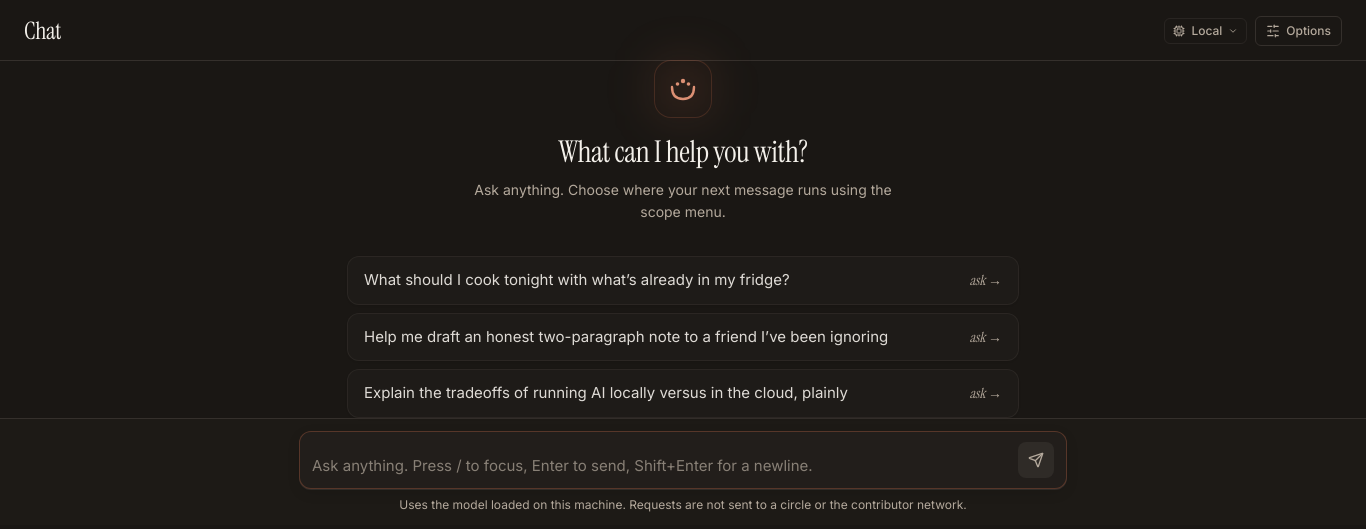
Test: signed-out local chat › clamps a restored remote scope and preserves the remembered circle without fetching it
Click the button with aria-label "Routing scope: Local only" at {"x": 1206, "y": 31}, box [1164, 18, 1247, 44]
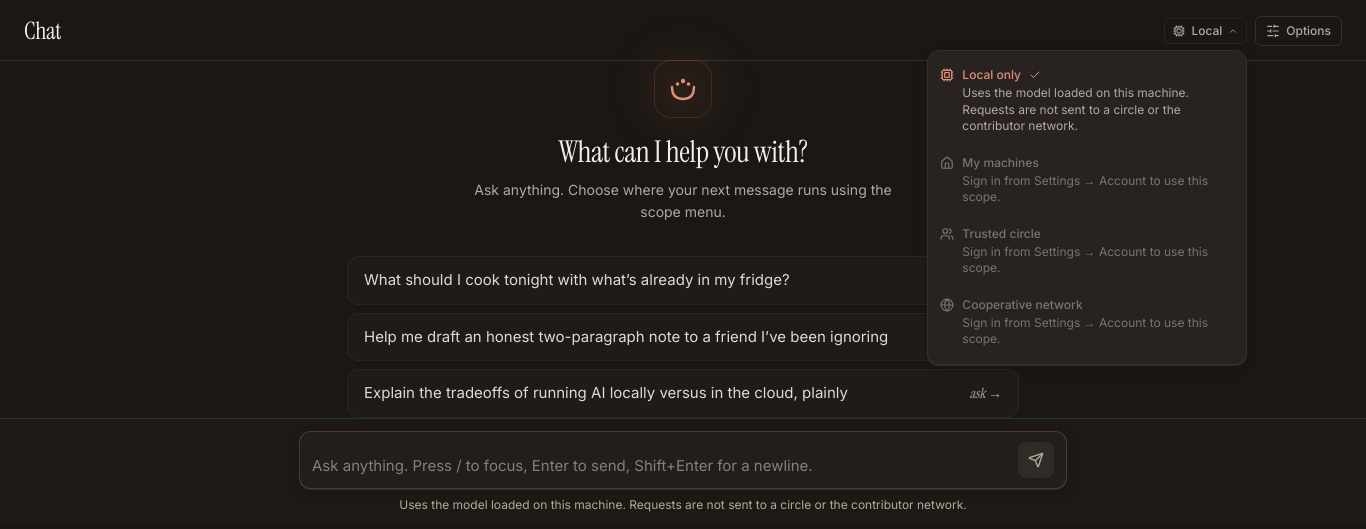
Check: the option "My machines" is disabled, box [928, 144, 1246, 216]
Check: the option "My machines" shows "Sign in from Settings → Account", box [928, 144, 1246, 216]
Check: the option "Trusted circle" is disabled, box [928, 216, 1246, 286]
